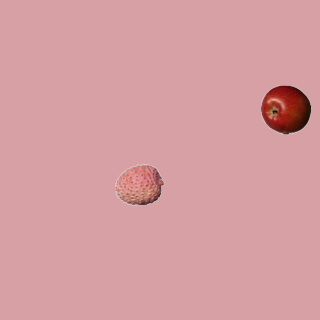Apple Braeburn: (260, 84, 310, 134)
Lychee: (114, 159, 164, 209)
